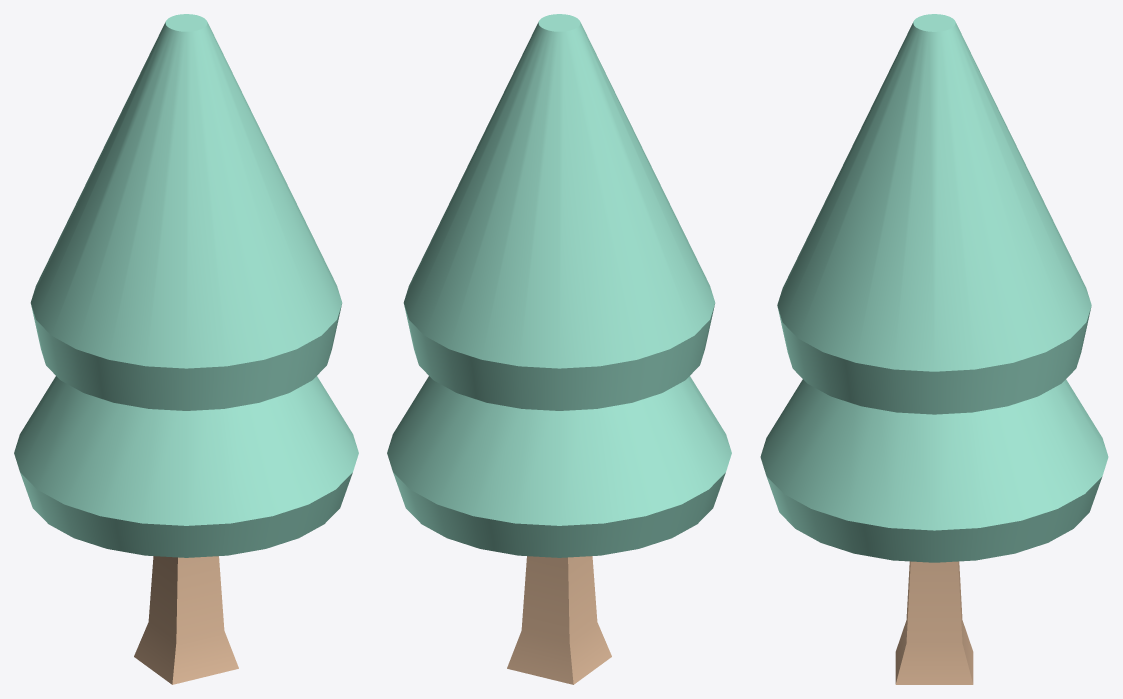
The picture shows the model from 3 angles, left to right: view 1: azimuth 30°, elevation 25°; view 2: azimuth 150°, elevation 25°; view 3: azimuth 270°, elevation 25°; orthographic projection.
Parts seen in each view (by area): view 1: treePine; view 2: treePine; view 3: treePine.
Part boxes in pixels (x1,y1,x2,y2): treePine: (14, 14, 358, 684); treePine: (387, 14, 731, 684); treePine: (760, 14, 1108, 684).
Size of the model in its own units: 0.9485 by 1.94 by 0.9485.
